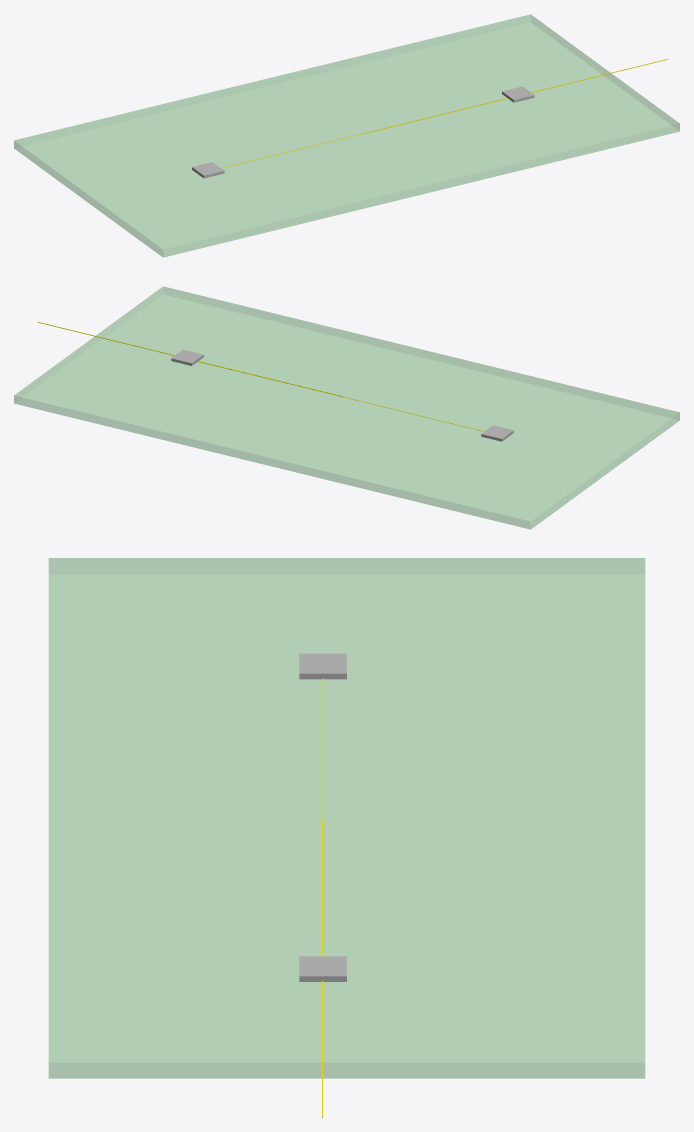
The model's file is board.glb.
3 renders of one model, top to bottom at view 1: azimuth 30°, elevation 25°; view 2: azimuth 150°, elevation 25°; view 3: azimuth 270°, elevation 25°, orthographic. The views are drawn at different scales.
Parts seen in each view (by area): view 1: Substrate_Layer_0_Z0, NET_C1_P1_to_C2_P1_1; view 2: Substrate_Layer_0_Z0, NET_C1_P1_to_C2_P1_1; view 3: Substrate_Layer_0_Z0, C1, C2.
Part boxes in pixels (x1,y1,x2,y2): Substrate_Layer_0_Z0: (14, 14, 679, 257); NET_C1_P1_to_C2_P1_1: (363, 59, 668, 133); Substrate_Layer_0_Z0: (14, 286, 679, 529); NET_C1_P1_to_C2_P1_1: (37, 322, 342, 396); Substrate_Layer_0_Z0: (48, 558, 645, 1078); C1: (299, 653, 346, 679); C2: (299, 956, 346, 981).
Bounding box in the file's own units: 0.111 × 0.002 × 0.05.
